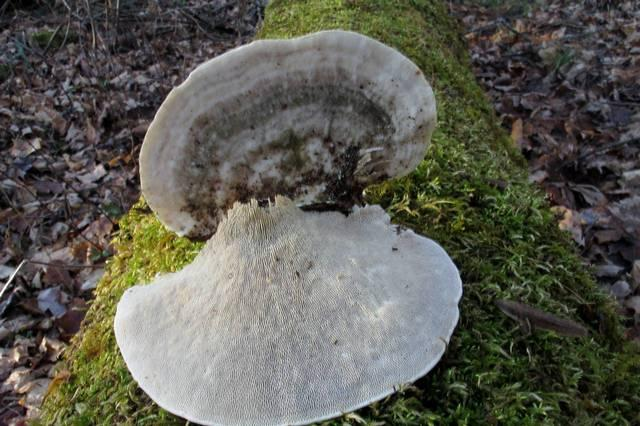Non-edible Mushroom: (111, 28, 464, 424)
